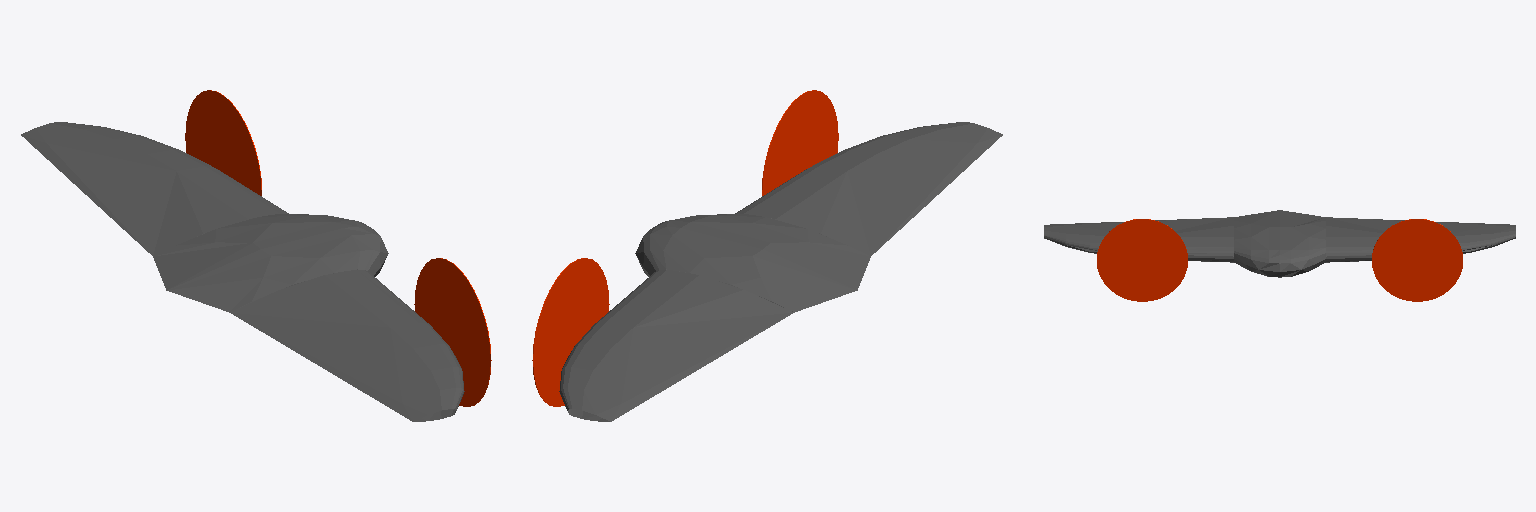
The robot description file, URDF, robot "DarkKnight":
<?xml version="1.0" ?>

<robot name="DarkKnight">

  <material name="white">
    <color rgba="1. 1. 1. 1.0"/>
  </material>

  <material name="black">
    <color rgba="0. 0. 0. 1.0"/>
  </material>

  <material name="blue0">
    <color rgba="15./255. 141./255. 238./255. 1.0"/>
  </material>

  <material name="darkgrey">
    <color rgba="0.4 0.4 0.4 1.0"/>
  </material>

  <material name="blue1">
    <color rgba="0.06 0.46 0.9 0.6"/>
  </material>

  <material name="orange_red">
    <color rgba="1 0.25 0 0.4"/>
  </material>

  <configuration type="fixed_wing"/>

  <properties arm="0.0635" kf="2.0e-8" km="2.74e-10" thrust2weight="2" max_speed_kmh="30" gnd_eff_coeff="11.36859" prop_radius="3.31348e-2" drag_coeff_xy="9.1785e-7" drag_coeff_z="10.311e-7" dw_coeff_1="2267.18" dw_coeff_2=".16" dw_coeff_3="-.11"/>

  <control>
    <indi actuator_nr="4" output_nr="4" />
    <indi_1 roll="   0.0   0.0  0.0  0.0" />
    <indi_2 pitch="  0.0   0.0  0.0  0.0" />
    <indi_3 yaw="    0.0   0.0  0.0  0.0" />
    <indi_4 thrust=" 0.1   0.1  0.0 0.0" />

    <indi_guidance_gains>
      <pos kp="1.0" kd="2.2"/>
    </indi_guidance_gains>
    
    <indi_att_gains>
      <att  p="3." q="3." r="5." />
      <rate p="18." q="18." r="10." />
    </indi_att_gains>

    <pwm>
      <pwm2rpm scale="20000. 20000. 0. 0." const="0. 0. 0. 0." />
      <limit min="0  0  -1  -1" max="1  1  1  1" />
    </pwm>
  </control>

    <!--CL  CL0="0.31"  CL_alpha="3.15" CL_beta="0."    CL_omega="0.0 4.2 0.0"  CL_ctrl="0.0 0.0 1.2 1.2"/>
    <CD  CD0="0.02"  CD_k1="0.0"     CD_k2="0.1"                                CD_ctrl="0.0 0.0 0.1 0.1"/>
    <CY  CY0="0.0"   CY_alpha="0.0"  CY_beta="-0.18" CY_omega="0.19 0.0 0.16"   CY_ctrl="0.0 0.0 0.0 0.0 "/>
    <Cl  Cl0="0.0"   Cl_alpha="0.0"  Cl_beta="-0.1"  Cl_omega="-0.23 0.0 0.1"   Cl_ctrl="0.0 0.0 0.2 -0.2 "/>
    <Cm  Cm0="0.007" Cm_alpha="-0.3" Cm_beta="0.0"   Cm_omega="0.0 -1.26 0.0"   Cm_ctrl="0.0 0.0 0.6 0.6 "/>
    <Cn  Cn0="0.0"   Cn_alpha="0.0"  Cn_beta="0.06"  Cn_omega="-0.04 0.0 -0.08" Cn_ctrl="0.0 0.0 0.0 0.0 "/-->

  <fixed_wing_aero_coeffs>
    <ref alpha0="0." Sref="0.15"    Bref="1.0" Cref="0.15" Vref="14." actuator_nr="4"/>
    <CL  CL0="0.0"   CL_alpha="6.15" CL_beta="0."   CL_omega="0.0 4.2 0.0"   CL_ctrl="0.0 0.0 1.2 1.2"/>
    <CD  CD0="0.02"  CD_k1="0.0"     CD_k2="0.1"                             CD_ctrl="0.0 0.0 0.1 0.1"/>
    <CY  CY0="0.0"   CY_alpha="0.0"  CY_beta="0.0"  CY_omega="0.0 0.0 0.0"   CY_ctrl="0.0 0.0 0.0 0.0 "/>
    <Cl  Cl0="0.0"   Cl_alpha="0.0"  Cl_beta="0.0"  Cl_omega="0.0 0.0 0.0"   Cl_ctrl="0.0 0.0 0.0 0.0 "/>
    <Cm  Cm0="0.0"   Cm_alpha="0.0"  Cm_beta="0.0"  Cm_omega="0.0 -1.26 0.0"   Cm_ctrl="0.0 0.0 0.6 0.6 "/>
    <Cn  Cn0="0.0"   Cn_alpha="0.0"  Cn_beta="0.0"  Cn_omega="0.0 0.0 0.0"   Cn_ctrl="0.0 0.0 0.0 0.0 "/>
  </fixed_wing_aero_coeffs>

  <link name="base_link"> 
    <inertial>
      <origin rpy="0 0 0" xyz="0 0 0"/>
      <mass value="0.45"/>
      <inertia ixx="1.2e-3" ixy="0.0" ixz="0.0" iyy="1.2e-3" iyz="0.0" izz="2.1e-3"/>
    </inertial>

    <visual>
      <origin rpy="0 0 0" xyz="0 0 0"/>
      <geometry>
        <mesh filename="./darkknight.obj" scale="1. 1. 1."/>
      </geometry> 
      <material name="darkgrey"/>
    </visual>

    <collision>
      <origin rpy="0 0 0" xyz="0 0 0"/>
      <geometry>
        <cylinder radius="0.15" length=".1"/>
        <mesh filename="./darkknight.obj" scale="1. 1. 1."/>
      </geometry>
    </collision>  
  </link>

  <link name="prop0_link">
    <inertial>
      <origin rpy="0 0 0" xyz="0.07 0.3 0"/>
      <mass value="0"/>
      <inertia ixx="0" ixy="0" ixz="0" iyy="0" iyz="0" izz="0"/>
    </inertial>
    <visual>
      <origin rpy="0 1.5708 0" xyz="0.07 0.3 0"/>
      <geometry>
        <cylinder radius="0.10" length=".001"/>
      </geometry>
      <material name="orange_red"/>
    </visual> 
  </link>
  <joint name="prop0_joint" type="fixed">
    <parent link="base_link"/>
    <child link="prop0_link"/>
  </joint>

  <link name="prop1_link">
    <inertial>
      <origin rpy="0 0 0" xyz="0.07 -0.3 0"/>
      <mass value="0"/>
      <inertia ixx="0" ixy="0" ixz="0" iyy="0" iyz="0" izz="0"/>
    </inertial>
    <visual>
      <origin rpy="0 1.5708 0" xyz="0.07 -0.3 0"/>
      <geometry>
        <cylinder radius="0.10" length=".001"/>
      </geometry>
      <material name="orange_red"/>
    </visual> 
  </link>
  <joint name="prop1_joint" type="fixed">
    <parent link="base_link"/>
    <child link="prop1_link"/>
  </joint>

  <link name="center_of_mass_link">
    <inertial>
      <origin rpy="0 0 0" xyz="0 0 0"/>
      <mass value="0"/>
      <inertia ixx="0" ixy="0" ixz="0" iyy="0" iyz="0" izz="0"/>
    </inertial>
  </link>
  <joint name="center_of_mass_joint" type="fixed">
    <parent link="base_link"/>
    <child link="center_of_mass_link"/>
  </joint>

</robot>

--- Render facts (derived) ---
The picture shows the robot from 3 angles, left to right: view 1: azimuth 30°, elevation 25°; view 2: azimuth 150°, elevation 25°; view 3: azimuth 270°, elevation 25°; orthographic projection.
Model DarkKnight with 4 links and 3 joints (3 fixed), rooted at base_link, posed every joint at zero.
Visible links, largest first — view 1: base_link, prop1_link, prop0_link; view 2: base_link, prop0_link, prop1_link; view 3: base_link, prop0_link, prop1_link.
Boxes of the visible links, x1=… form: base_link: x1=21, y1=122, x2=464, y2=421; prop1_link: x1=414, y1=258, x2=491, y2=406; prop0_link: x1=185, y1=90, x2=261, y2=195; base_link: x1=559, y1=122, x2=1002, y2=421; prop0_link: x1=532, y1=258, x2=609, y2=406; prop1_link: x1=762, y1=90, x2=838, y2=195; base_link: x1=1044, y1=210, x2=1515, y2=277; prop0_link: x1=1372, y1=219, x2=1462, y2=301; prop1_link: x1=1097, y1=219, x2=1187, y2=301.
Size in the robot's own frame: 0.3215 by 1.03 by 0.2 metres.
1 mesh visuals loaded from 1 distinct referenced files (1 OBJ).